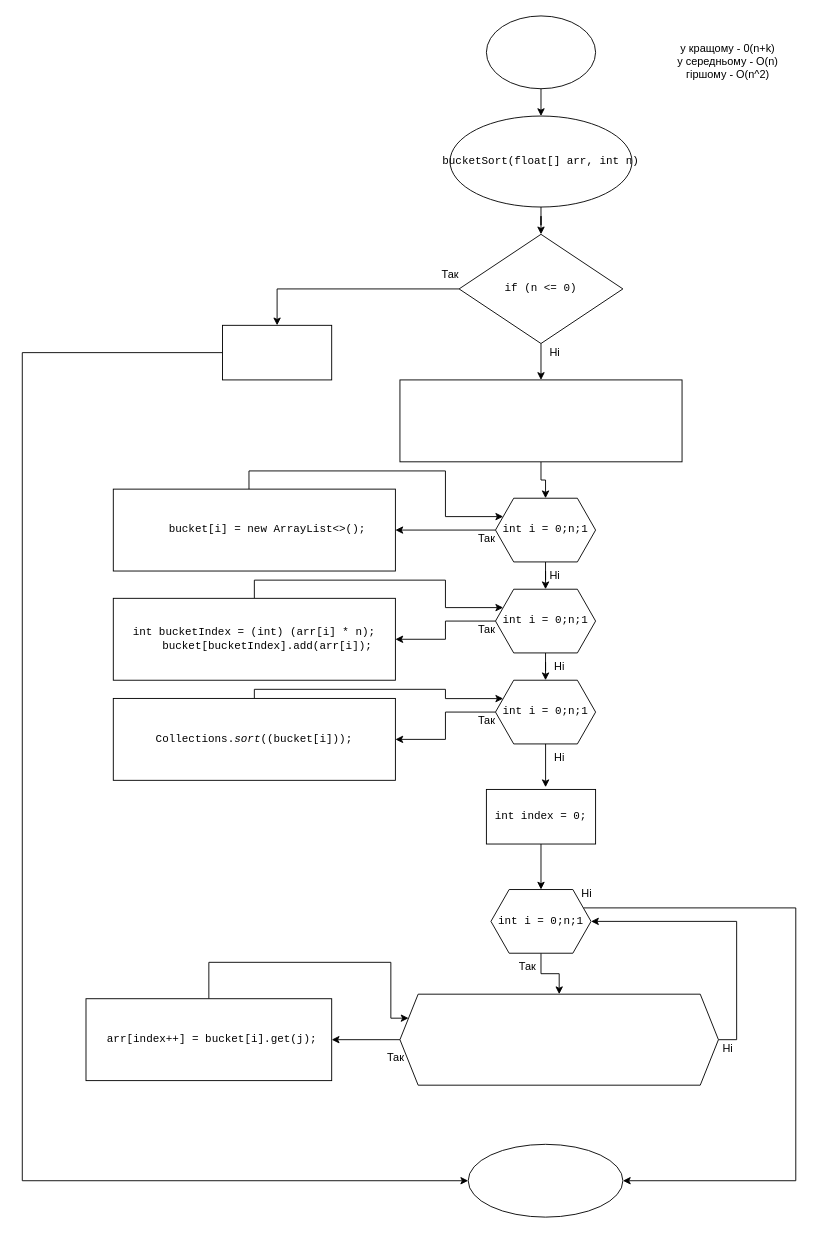
The diagram is 819 pixels wide and 1233 high, and some of its shapes have lost their labels. Each missing label, with the box of its shape:
@SuppressWarnings( "unchecked" ) ArrayList<Float>[] bucket = new ArrayList[n] ;: (399, 379, 682, 462)
int j = 0 , size = bucket[i].size() ; size ;1: (399, 993, 718, 1085)
return;: (222, 324, 332, 380)
кінець: (467, 1143, 623, 1217)
Початок: (485, 15, 596, 89)
